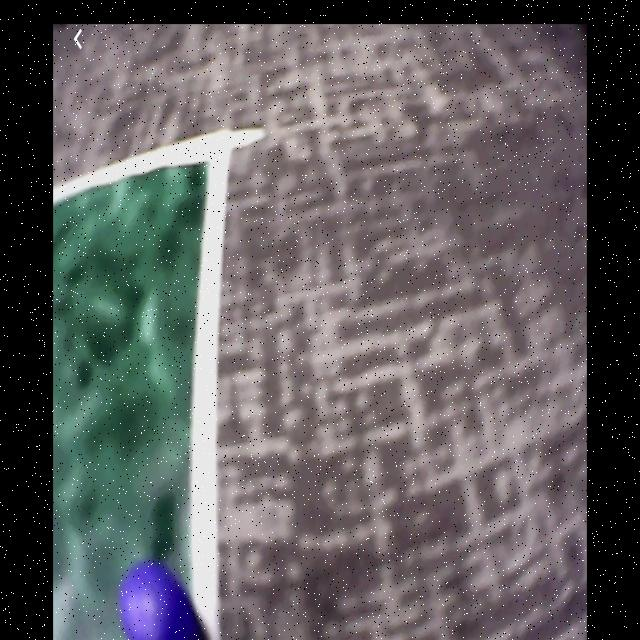ball: (120, 564, 191, 640)
